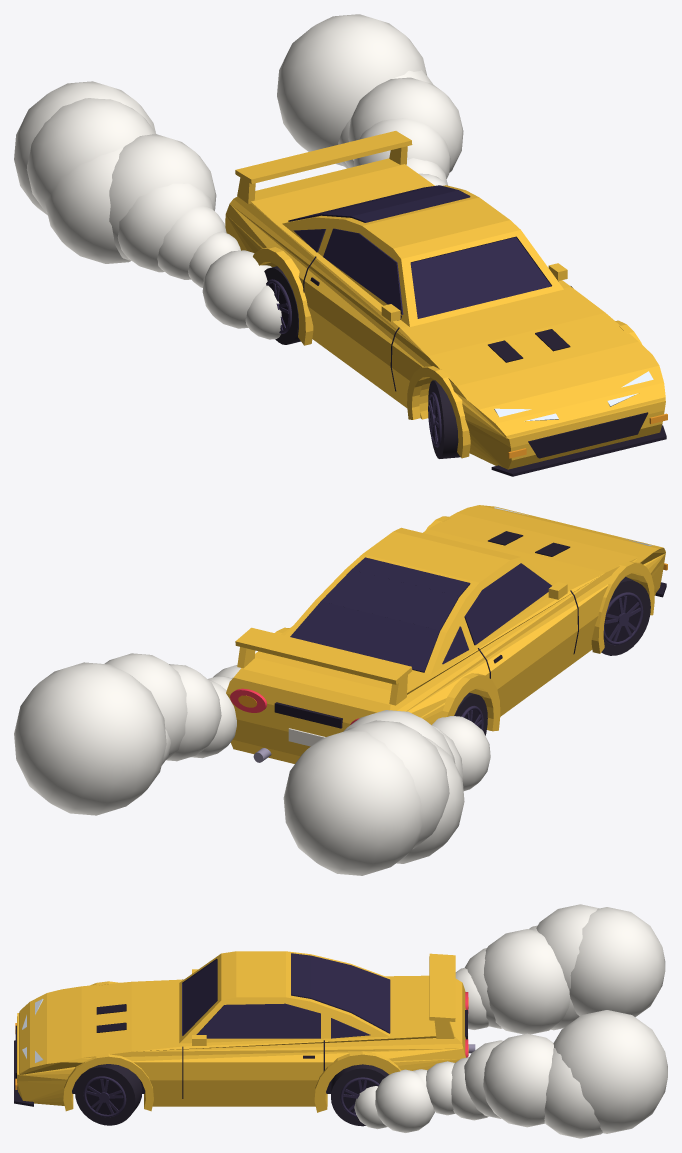
File: toro_2j_smoke.glb
3 renders of one model, top to bottom at view 1: azimuth 30°, elevation 25°; view 2: azimuth 150°, elevation 25°; view 3: azimuth 270°, elevation 25°, orthographic. The views are drawn at different scales.
Parts seen in each view (by area): view 1: body_top, body_shoulder, smoke_puff_R7, body_flank, cabin, glass_windshield, smoke_puff_L6, smoke_puff_L5, smoke_puff_L4, smoke_puff_R4, smoke_puff_L3, body_low_front (+17 smaller); view 2: smoke_puff_R7, smoke_puff_L7, body_top, body_shoulder, cabin, body_flank, glass_rear_0, glass_rear_1, smoke_puff_L6, wing_blade, glass_door, smoke_puff_R4 (+13 smaller); view 3: body_top, smoke_puff_R7, body_shoulder, smoke_puff_L7, body_flank, smoke_puff_L4, cabin, smoke_puff_R4, body_low_mid, glass_door, smoke_puff_R6, smoke_tyre_R1 (+21 smaller).
Boxes of the visible parts, x1,y1,x2,y2 form: body_top: [230, 158, 605, 355]; body_shoulder: [226, 204, 652, 399]; smoke_puff_R7: [277, 14, 426, 166]; body_flank: [225, 214, 665, 438]; cabin: [282, 185, 563, 326]; glass_windshield: [410, 236, 551, 318]; smoke_puff_L6: [26, 98, 155, 212]; smoke_puff_L5: [45, 147, 130, 263]; smoke_puff_L4: [109, 134, 216, 260]; smoke_puff_R4: [348, 77, 463, 172]; smoke_puff_L3: [117, 183, 213, 272]; body_low_front: [465, 400, 665, 469]; smoke_puff_R7: [14, 662, 166, 815]; smoke_puff_L7: [283, 729, 422, 875]; body_top: [230, 529, 604, 715]; body_shoulder: [226, 508, 652, 723]; cabin: [285, 527, 556, 674]; body_flank: [226, 505, 665, 736]; glass_rear_0: [290, 601, 439, 672]; glass_rear_1: [321, 570, 459, 630]; smoke_puff_L6: [346, 720, 449, 849]; wing_blade: [235, 627, 412, 684]; glass_door: [464, 563, 551, 645]; smoke_puff_R4: [104, 653, 187, 759]; body_top: [131, 975, 463, 1051]; smoke_puff_R7: [553, 1010, 667, 1133]; body_shoulder: [61, 981, 465, 1062]; smoke_puff_L7: [569, 907, 665, 1017]; body_flank: [19, 989, 460, 1080]; smoke_puff_L4: [483, 929, 570, 1034]; cabin: [179, 951, 389, 1043]; smoke_puff_R4: [483, 1033, 553, 1127]; body_low_mid: [144, 1080, 327, 1106]; glass_door: [196, 1003, 320, 1038]; smoke_puff_R6: [544, 1048, 602, 1138]; smoke_tyre_R1: [375, 1069, 434, 1132].
Size of the model in its own units: 3.72 by 1.39 by 6.56.
